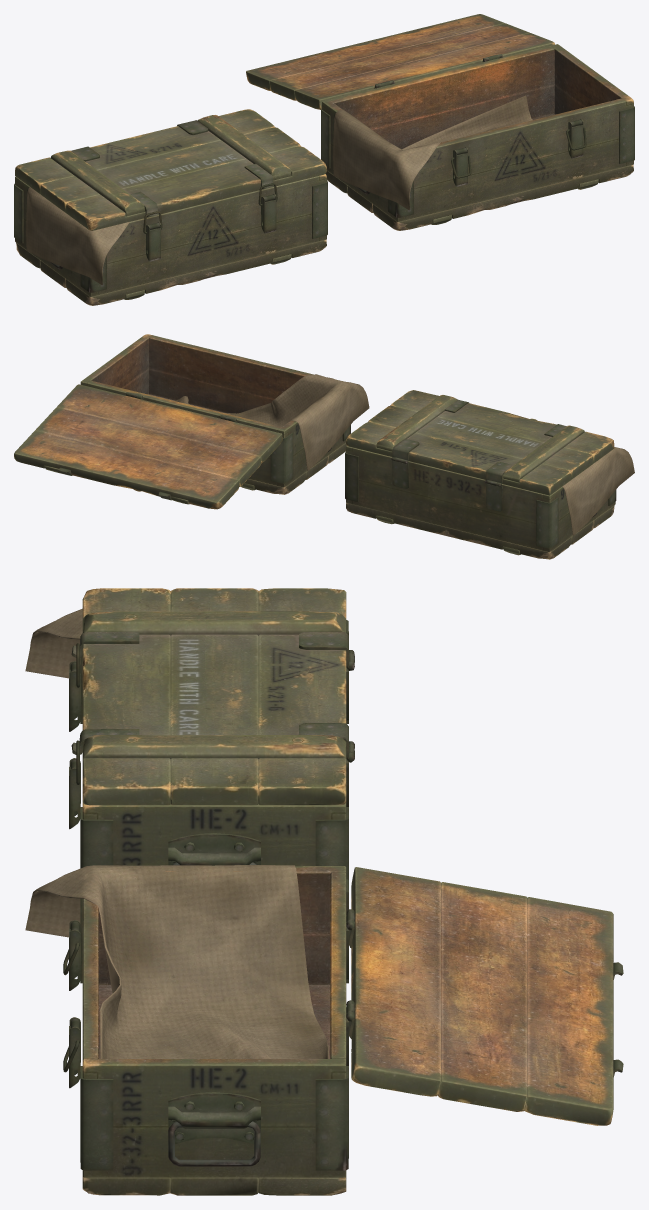
Rendered from old_military_crate.glb.
The picture shows the model from 3 angles, top to bottom: view 1: azimuth 30°, elevation 25°; view 2: azimuth 150°, elevation 25°; view 3: azimuth 270°, elevation 25°; orthographic projection. The views are drawn at different scales.
Parts seen in each view (by area): view 1: old_military_crate_b, old_military_crate_lid_a, old_military_crate_a, old_military_crate_lid_b, old_military_crate_cloth_b, old_military_crate_cloth_a, old_military_crate_latch_a, old_military_crate_latch_b; view 2: old_military_crate_lid_b, old_military_crate_lid_a, old_military_crate_a, old_military_crate_b, old_military_crate_cloth_b, old_military_crate_cloth_a; view 3: old_military_crate_lid_a, old_military_crate_lid_b, old_military_crate_b, old_military_crate_cloth_b, old_military_crate_a, old_military_crate_cloth_a, old_military_crate_latch_b, old_military_crate_latch_a.
Boxes of the visible parts, <box> form: old_military_crate_b: <box>321,44,634,230</box>; old_military_crate_lid_a: <box>15,109,326,230</box>; old_military_crate_a: <box>14,174,327,305</box>; old_military_crate_lid_b: <box>246,14,554,109</box>; old_military_crate_cloth_b: <box>333,95,532,209</box>; old_military_crate_cloth_a: <box>26,187,129,284</box>; old_military_crate_latch_a: <box>146,194,276,261</box>; old_military_crate_latch_b: <box>453,119,583,186</box>; old_military_crate_lid_b: <box>14,384,282,509</box>; old_military_crate_lid_a: <box>346,390,614,495</box>; old_military_crate_a: <box>345,446,616,559</box>; old_military_crate_b: <box>80,334,350,494</box>; old_military_crate_cloth_b: <box>174,374,369,470</box>; old_military_crate_cloth_a: <box>562,447,634,535</box>; old_military_crate_lid_a: <box>71,588,354,805</box>; old_military_crate_lid_b: <box>346,867,623,1125</box>; old_military_crate_b: <box>80,866,354,1195</box>; old_military_crate_cloth_b: <box>25,865,328,1058</box>; old_military_crate_a: <box>80,620,354,889</box>; old_military_crate_cloth_a: <box>25,608,82,678</box>; old_military_crate_latch_b: <box>69,920,80,1088</box>; old_military_crate_latch_a: <box>69,661,80,829</box>.
Bounding box in the file's own units: 1.82 × 0.3009 × 0.9757.
Materials: 1 (1 with a texture image).
